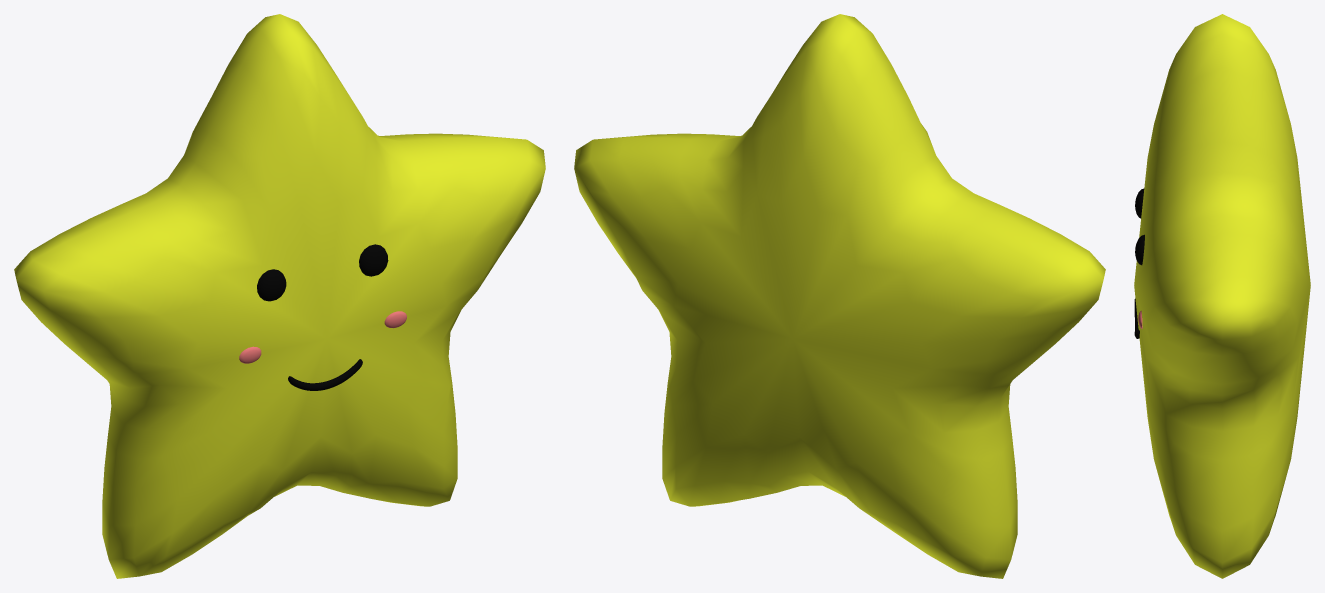
File: Invincibility_Mesh.fbx
3 views of the same model, side by side, from view 1: azimuth 30°, elevation 25°; view 2: azimuth 150°, elevation 25°; view 3: azimuth 270°, elevation 25° (orthographic). The views are drawn at different scales.
Visible parts, largest first — view 1: Cylinder, Sphere; view 2: Cylinder; view 3: Cylinder, Sphere.
Part boxes in pixels (<box>): Cylinder: <box>14,14,545,578</box>; Sphere: <box>257,244,388,301</box>; Cylinder: <box>574,14,1105,578</box>; Cylinder: <box>1134,14,1310,578</box>; Sphere: <box>1135,188,1144,265</box>.
Bounding box in the file's own units: 143 × 137 × 44.54.
